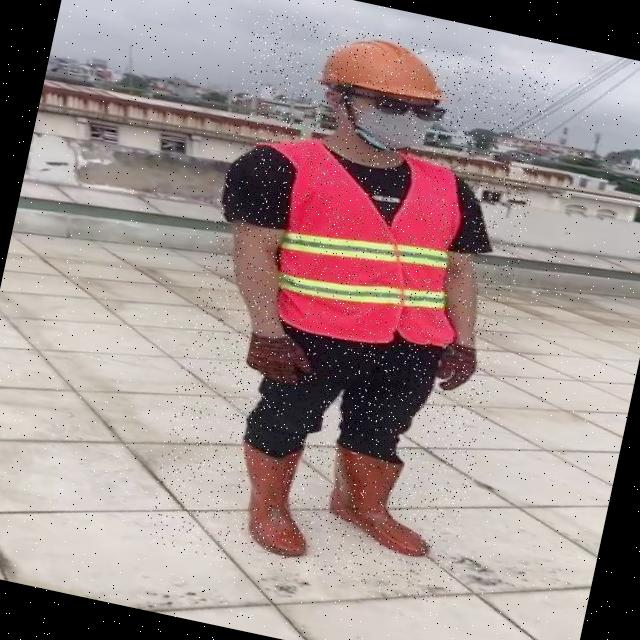boots: (320, 445, 448, 560), (220, 436, 328, 562)
helmet: (310, 24, 454, 109)
vest: (259, 138, 486, 362)
